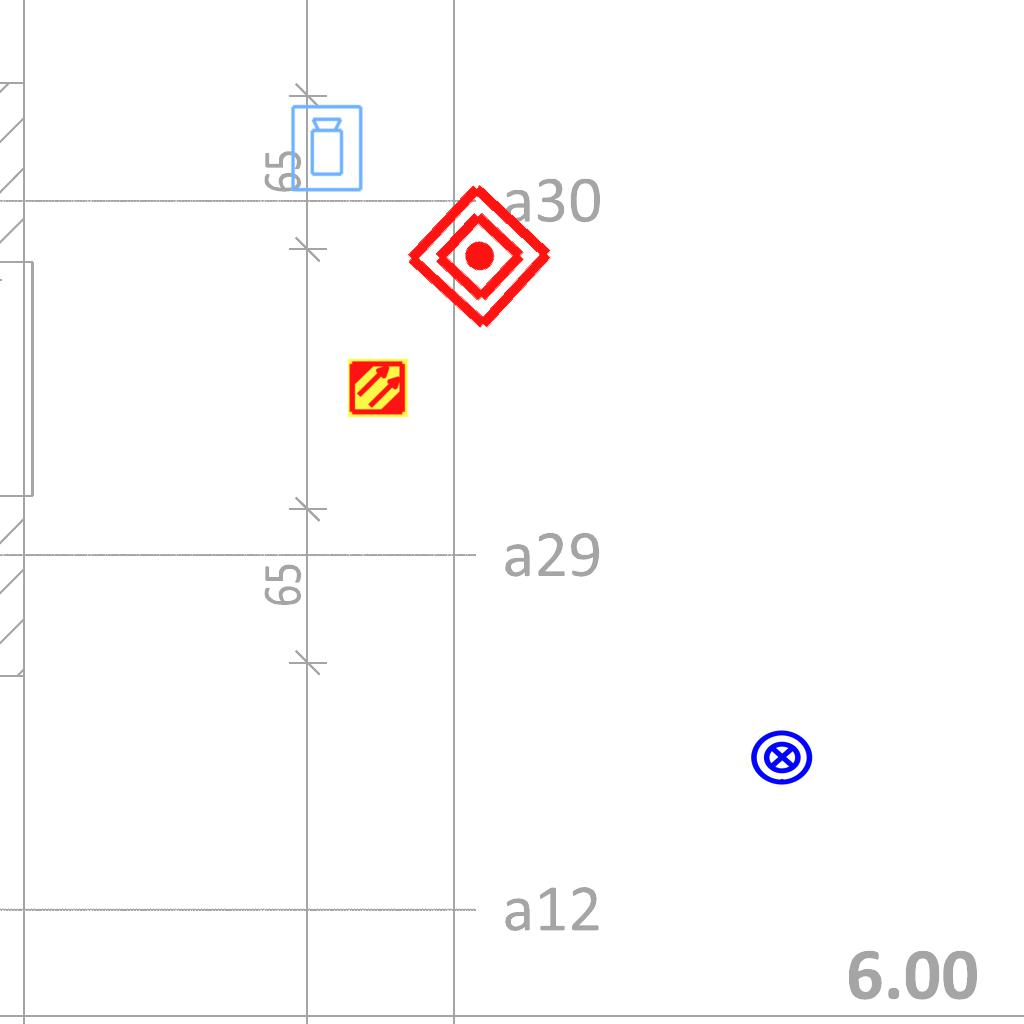ASR_Ansaugrauchmelder: (347, 357, 409, 419)
KFO_Kamera_mit_Festobjektiv: (289, 103, 366, 194)
NAM-Nichtautomatischer_Melder: (399, 176, 560, 337)
Taster_beleuchtet: (749, 724, 815, 790)
